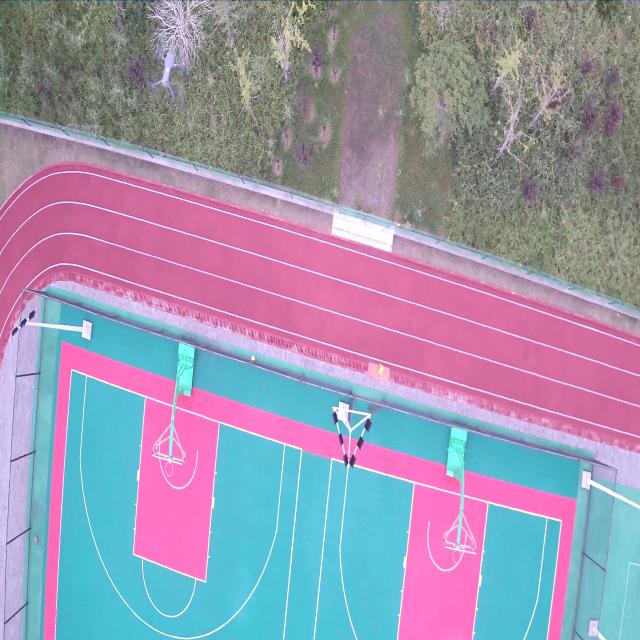UAV: (152, 46, 186, 100)
